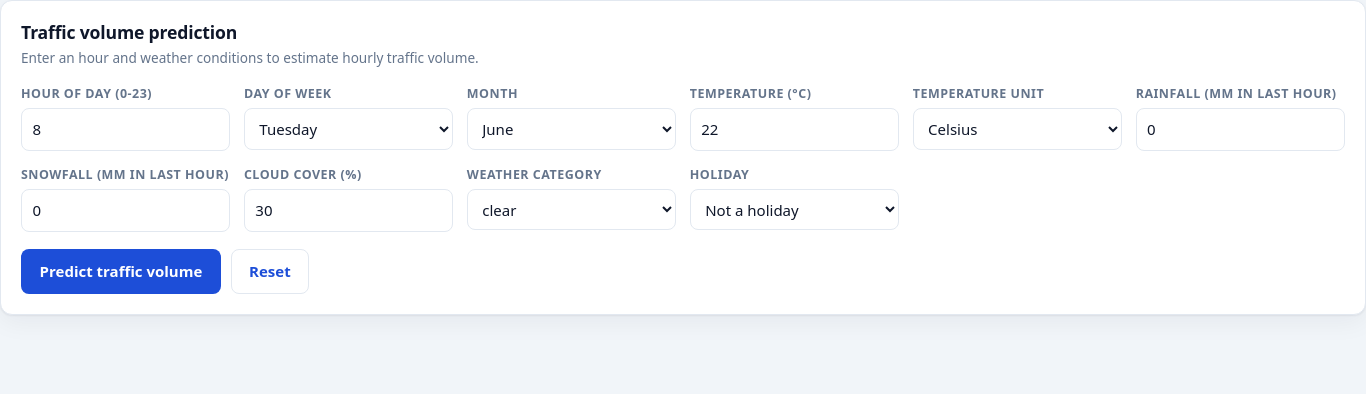
Test: PredictionForm › shows a validation error for an out-of-range hour and does not submit
The image size is (1366, 394).
Replace the text in the number field labelled "Hour of day (0-23)" with "99" at coordinates (126, 130), box [21,108,230,151]
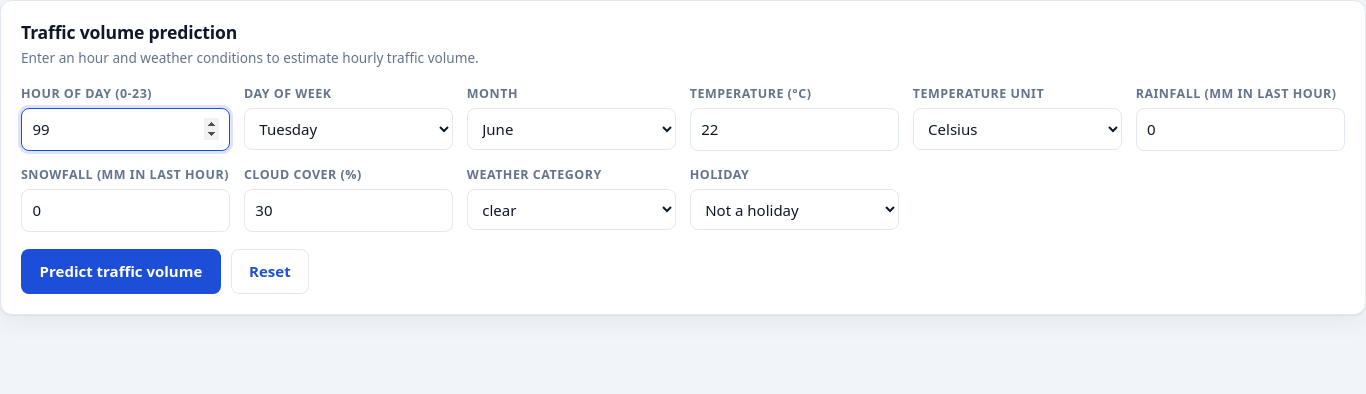
Click the button "Predict traffic volume" at coordinates (121, 271), box [21,249,221,294]
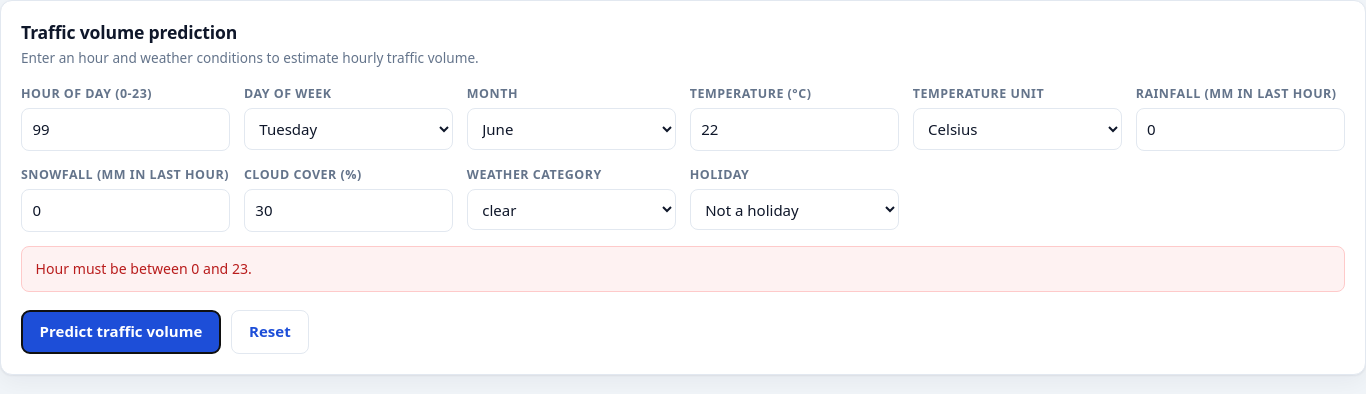
Now the message shows "Hour must be between 0 and 23", box [36,259,252,278]
